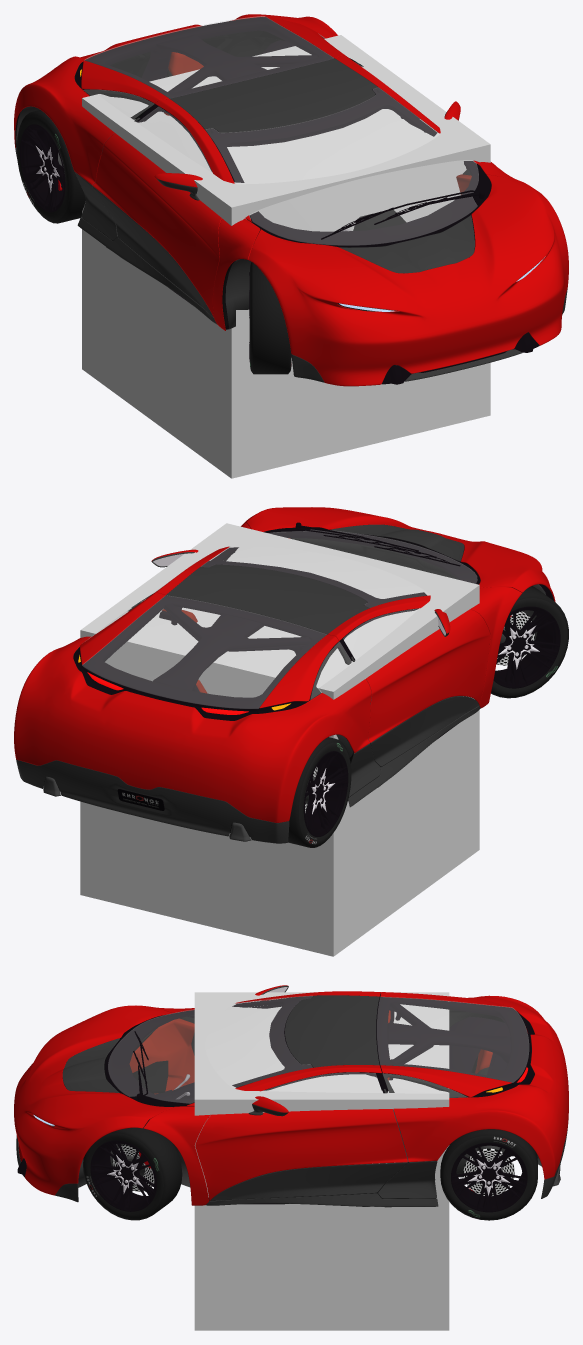
The model's file is veiculo-carconcept-realista.glb.
3 renders of one model, top to bottom at view 1: azimuth 30°, elevation 25°; view 2: azimuth 150°, elevation 25°; view 3: azimuth 270°, elevation 25°, orthographic. The views are drawn at different scales.
Parts seen in each view (by area): view 1: Cube, BodyHood, BodyWindshield, BodyRearwindow, BodyDoorRColor1, BodyRoofPanel, BodyRearPanelsColor1, BodyWindshieldGasket, BodyPillars, InteriorPillar, InteriorRearHatch, BodyPanelsColor2 (+12 smaller); view 2: Cube, BodyRearPanelsColor1, BodyRearwindow, BodyPanelsColor2, BodyDoorRColor1, BodyWindshield, BodyRoofPanel, BodyHood, InteriorRearHatch, InteriorPillar, BodyPillars, WheelFrontRRim (+14 smaller); view 3: Cube, BodyRearPanelsColor1, BodyHood, BodyWindshield, BodyDoorLColor1, BodyRearwindow, BodyRoofPanel, BodyPillars, BodyDoorLColor2, BodyPanelsColor2, BodyWindshieldGasket, WheelFrontL (+16 smaller).
Boxes of the visible parts, <box> form: Cube: <box>82,35,490,478</box>; BodyHood: <box>248,174,568,386</box>; BodyWindshield: <box>205,87,478,245</box>; BodyRearwindow: <box>84,16,333,98</box>; BodyDoorRColor1: <box>92,133,221,317</box>; BodyRoofPanel: <box>170,58,377,132</box>; BodyRearPanelsColor1: <box>14,14,345,185</box>; BodyWindshieldGasket: <box>205,88,491,247</box>; BodyPillars: <box>155,55,521,330</box>; InteriorPillar: <box>141,34,379,146</box>; InteriorRearHatch: <box>83,17,334,104</box>; BodyPanelsColor2: <box>15,147,567,382</box>; Cube: <box>80,523,479,956</box>; BodyRearPanelsColor1: <box>14,592,371,822</box>; BodyRearwindow: <box>82,595,326,708</box>; BodyPanelsColor2: <box>16,705,480,843</box>; BodyDoorRColor1: <box>366,609,490,742</box>; BodyWindshield: <box>201,529,477,607</box>; BodyRoofPanel: <box>166,564,368,634</box>; BodyHood: <box>244,507,555,601</box>; InteriorRearHatch: <box>82,596,337,712</box>; InteriorPillar: <box>153,596,364,690</box>; BodyPillars: <box>155,522,522,708</box>; WheelFrontRRim: <box>493,606,560,688</box>; Cube: <box>194,992,449,1330</box>; BodyRearPanelsColor1: <box>380,992,568,1179</box>; BodyHood: <box>14,1005,172,1195</box>; BodyWindshield: <box>108,996,312,1103</box>; BodyDoorLColor1: <box>195,1109,407,1200</box>; BodyRearwindow: <box>377,997,528,1082</box>; BodyRoofPanel: <box>285,995,379,1067</box>; BodyPillars: <box>143,991,381,1205</box>; BodyDoorLColor2: <box>210,1162,407,1200</box>; BodyPanelsColor2: <box>16,1127,567,1207</box>; BodyWindshieldGasket: <box>105,996,312,1106</box>; WheelFrontL: <box>83,1126,182,1220</box>.
Size of the model in its own units: 2.54 by 2.15 by 4.36.
Materials: 24 (6 with a texture image).
